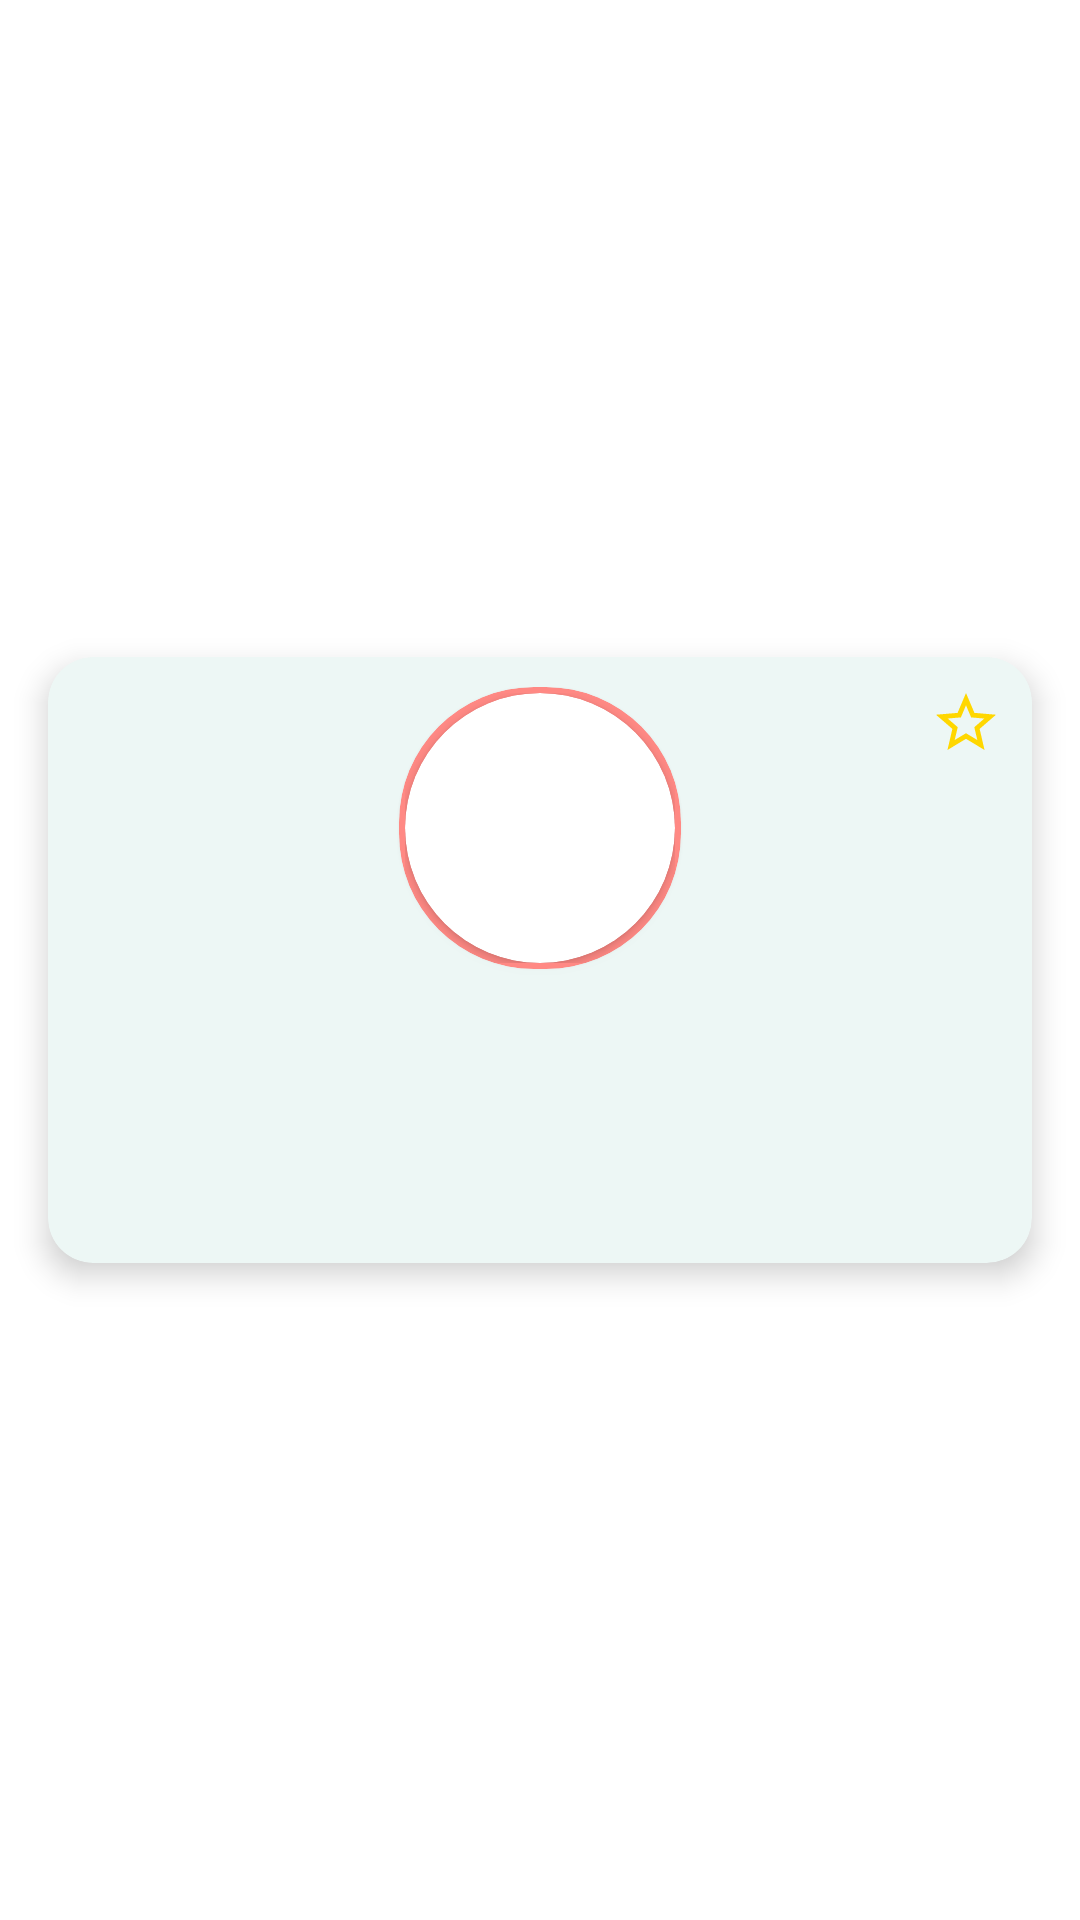

Screen size 1080px x 1920px. Icon name, then its box in pixels as (x1, y1, x2, y2):
star border: (936, 693, 996, 750)
